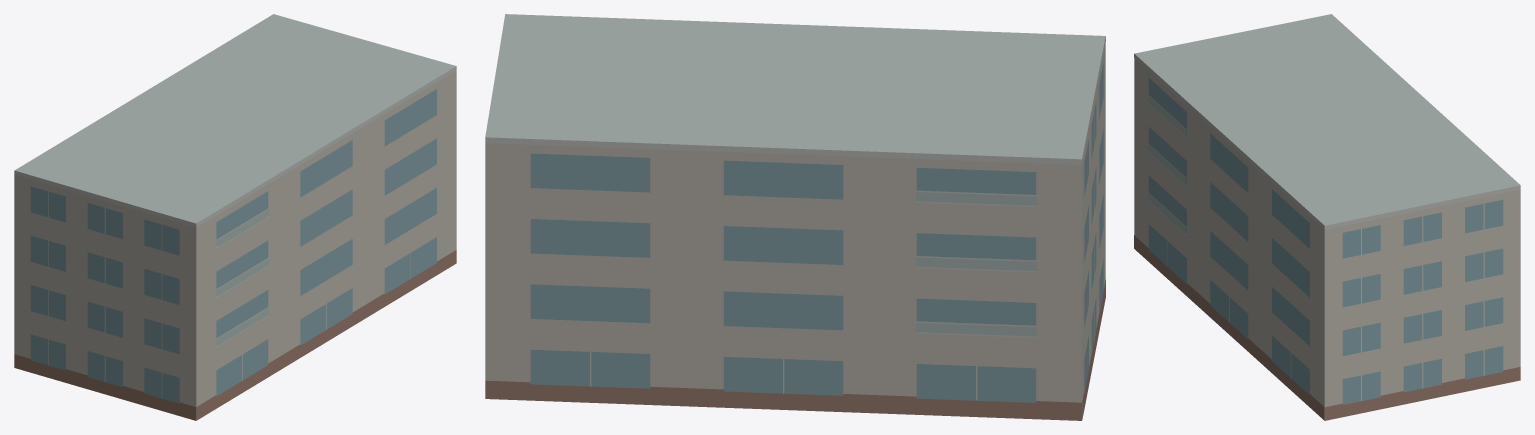
Rendered from survey-upis-32707401.glb.
3 renders of one model, left to right at view 1: azimuth 30°, elevation 25°; view 2: azimuth 150°, elevation 25°; view 3: azimuth 270°, elevation 25°, orthographic. The views are drawn at different scales.
Parts seen in each view (by area): view 1: survey-upis-32707401.tmp; view 2: survey-upis-32707401.tmp; view 3: survey-upis-32707401.tmp.
Part boxes in pixels (box(x1,y1,x2,y2)): survey-upis-32707401.tmp: box(14, 14, 456, 420); survey-upis-32707401.tmp: box(485, 14, 1105, 420); survey-upis-32707401.tmp: box(1134, 14, 1520, 420).
Size of the model in its own units: 26.3 by 11.3 by 20.29.
